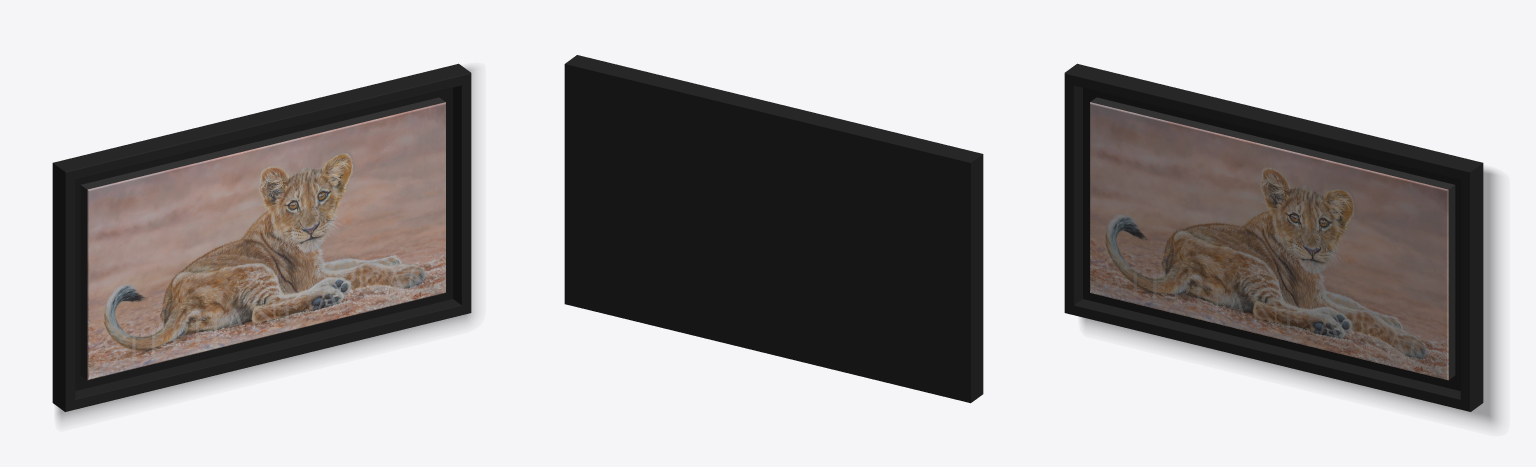
The model's file is tableau-lionceau-classique-a5d3b6b8.glb.
3 renders of one model, left to right at view 1: azimuth 30°, elevation 25°; view 2: azimuth 150°, elevation 25°; view 3: azimuth 330°, elevation 25°, orthographic.
Parts seen in each view (by area): view 1: Painting; view 2: Painting; view 3: Painting.
Part boxes in pixels (box(x1,y1,x2,y2)): Painting: box(52, 63, 474, 421); Painting: box(564, 55, 983, 403); Painting: box(1064, 63, 1498, 425).
Bounding box in the file's own units: 0.876 × 0.556 × 0.04.
5 materials, 3 textured.
